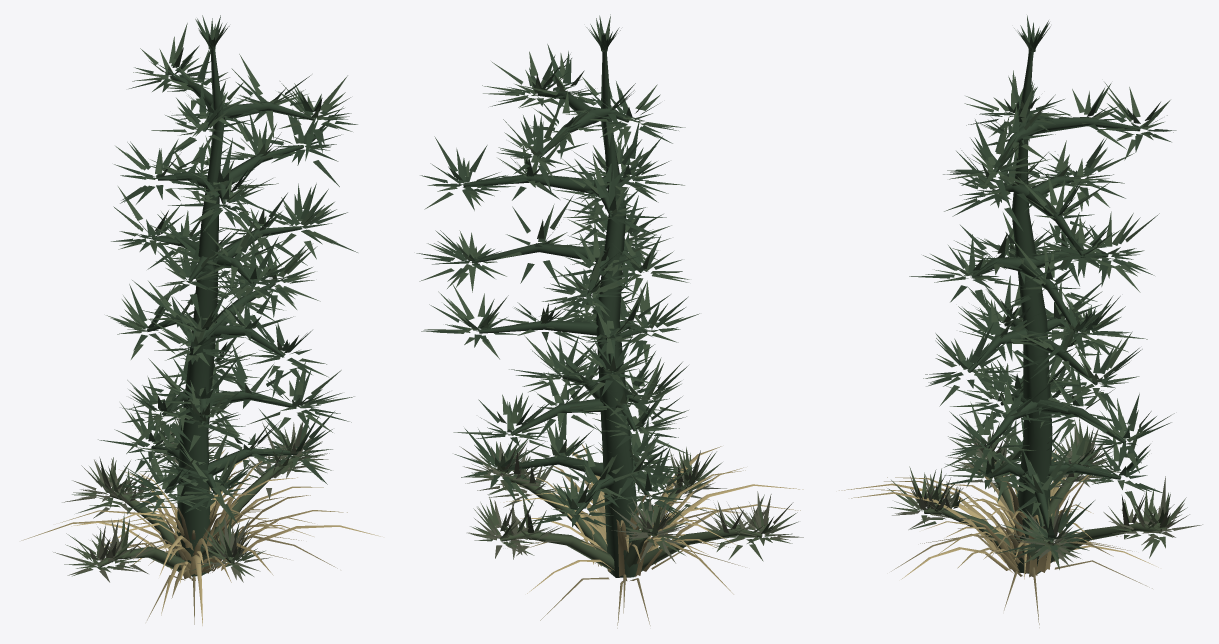
Rendered from alpine-flora.glb.
3 views of the same model, side by side, from view 1: azimuth 30°, elevation 25°; view 2: azimuth 150°, elevation 25°; view 3: azimuth 270°, elevation 25° (orthographic).
Parts seen in each view (by area): view 1: Pine, Juniper, Tussock; view 2: Pine, Juniper, Tussock; view 3: Pine, Juniper, Tussock.
Boxes of the visible parts, x1,y1,x2,y2 form: Pine: (98, 15, 357, 575); Juniper: (53, 412, 331, 582); Tussock: (21, 449, 380, 625); Pine: (416, 14, 699, 577); Juniper: (459, 441, 803, 570); Tussock: (495, 444, 803, 628); Pine: (909, 15, 1176, 573); Juniper: (887, 418, 1202, 569); Tussock: (839, 450, 1158, 627).
Bounding box in the file's own units: 0.271 × 0.4247 × 0.251.
